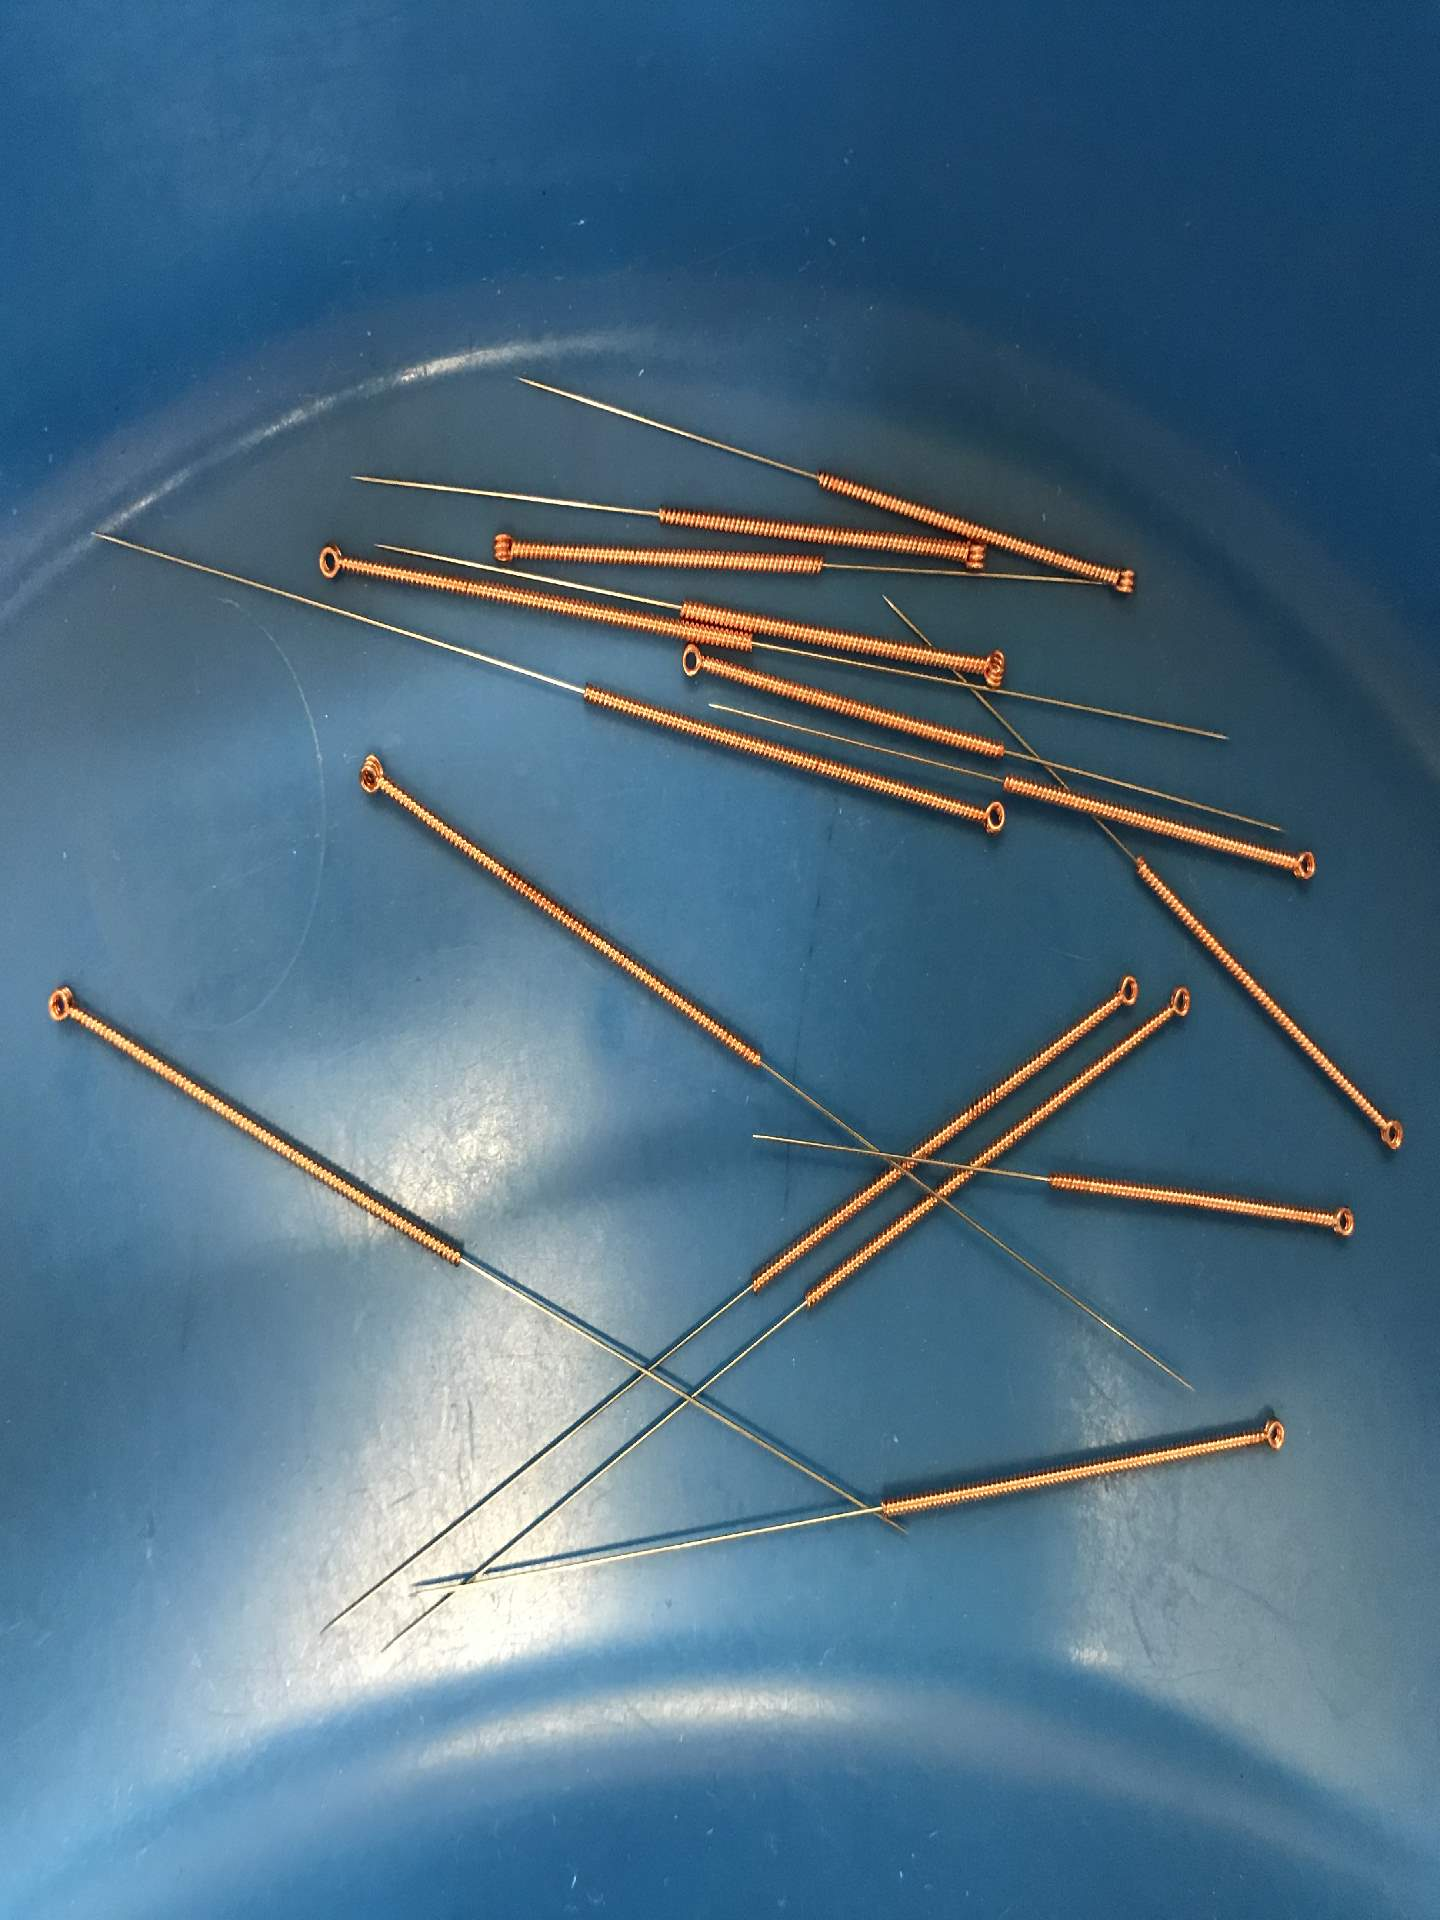needle: (1237, 1403, 1302, 1466), (1085, 549, 1150, 612), (343, 741, 404, 806), (36, 974, 92, 1037), (961, 638, 1019, 695), (1363, 1101, 1416, 1163), (306, 529, 358, 590), (959, 789, 1013, 847), (664, 639, 726, 688), (1277, 838, 1327, 897), (1098, 960, 1148, 1017), (1153, 977, 1204, 1031), (479, 522, 532, 571), (1316, 1197, 1367, 1247), (942, 535, 995, 584)
